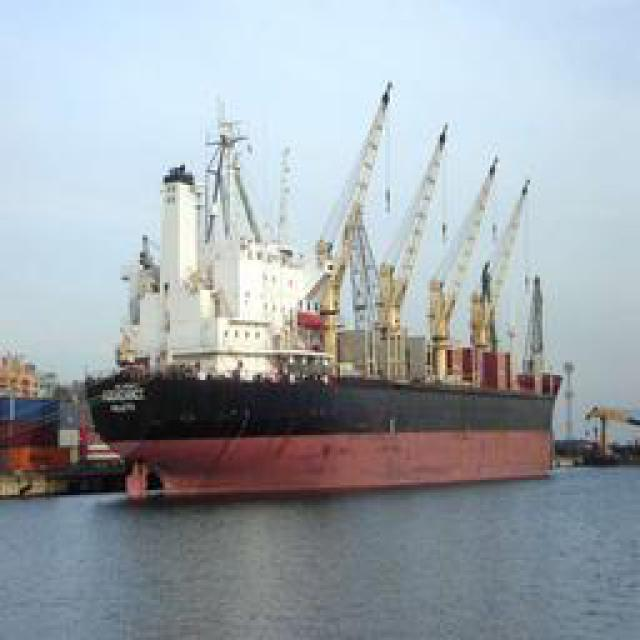Ship: (88, 67, 576, 497)
